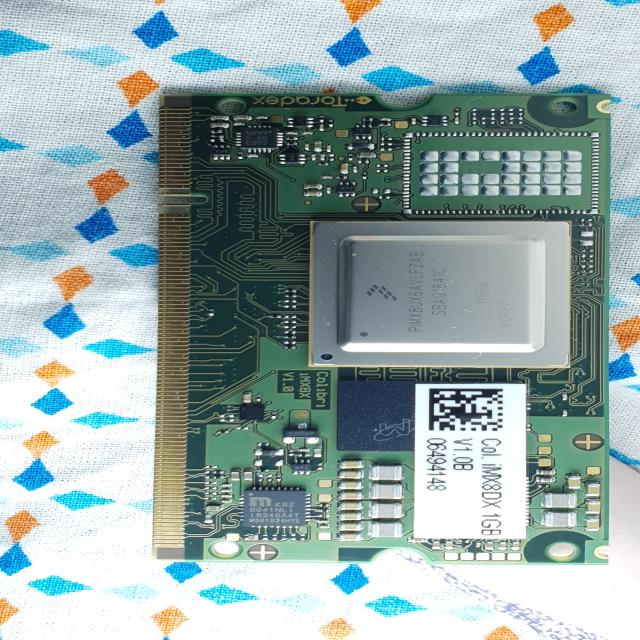som: (138, 79, 636, 571)
